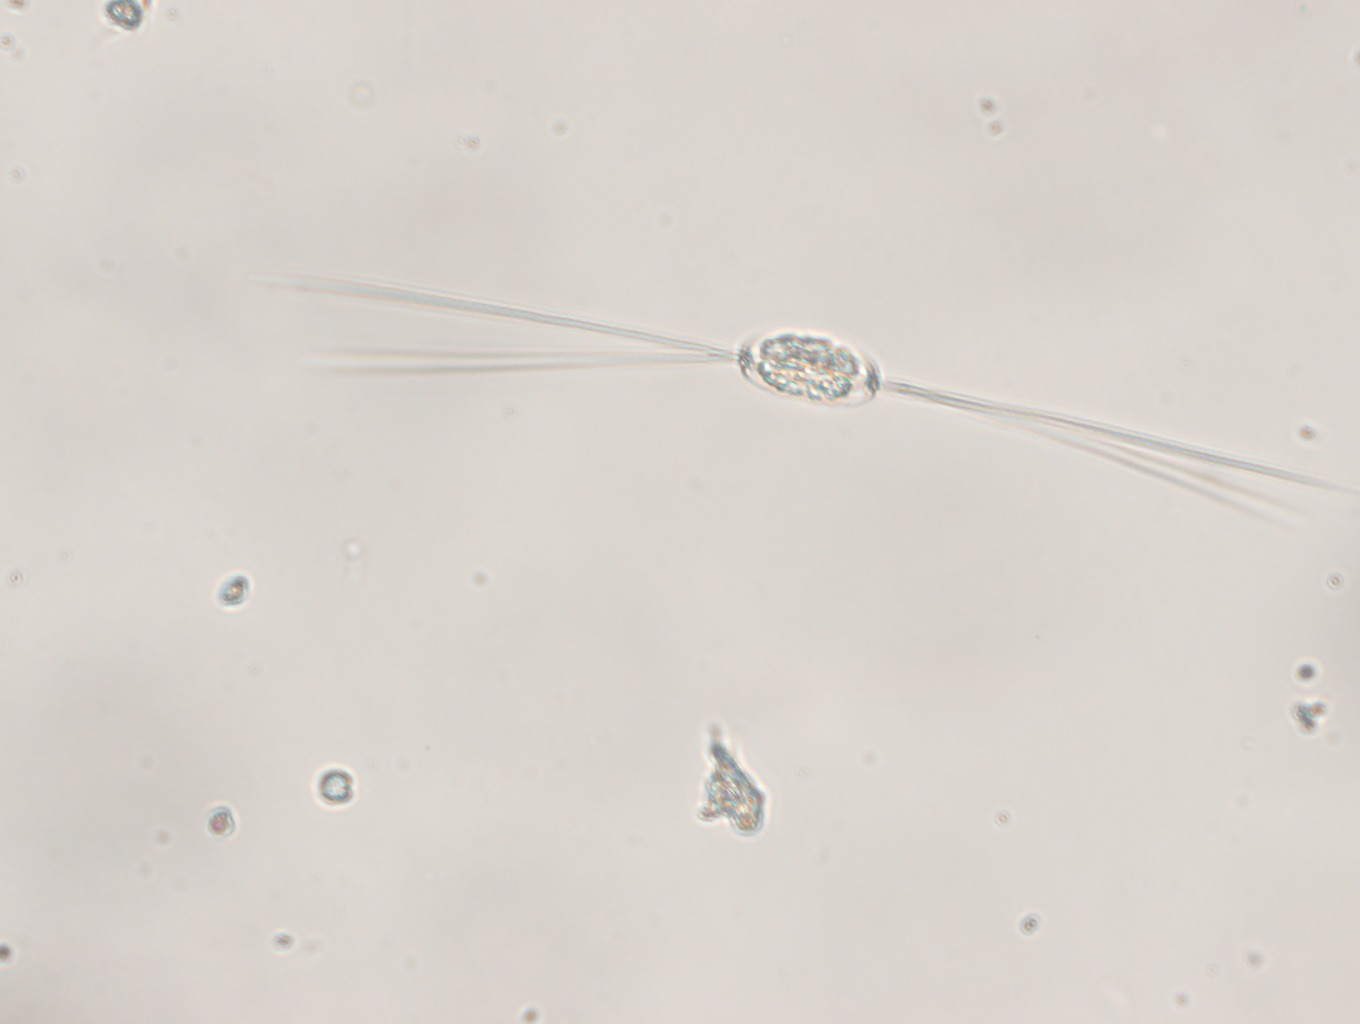chaetoceros: (278, 254, 1338, 540)
